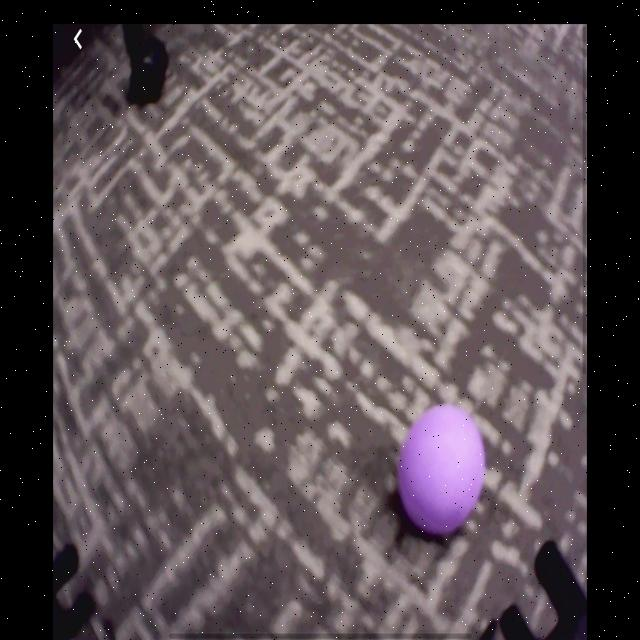ball: (399, 406, 487, 536)
